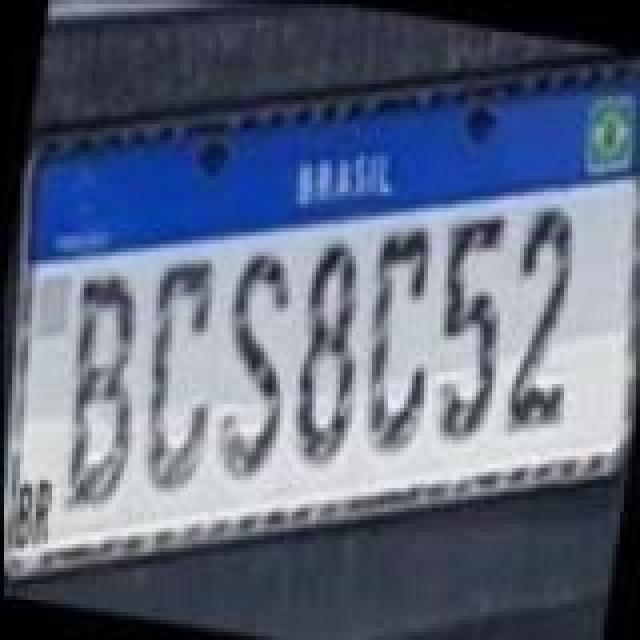2: (486, 196, 590, 436)
5: (414, 198, 518, 442)
8: (282, 232, 378, 468)
B: (38, 258, 154, 510)
C: (122, 248, 230, 496), (344, 212, 452, 460)
S: (202, 244, 302, 484)
